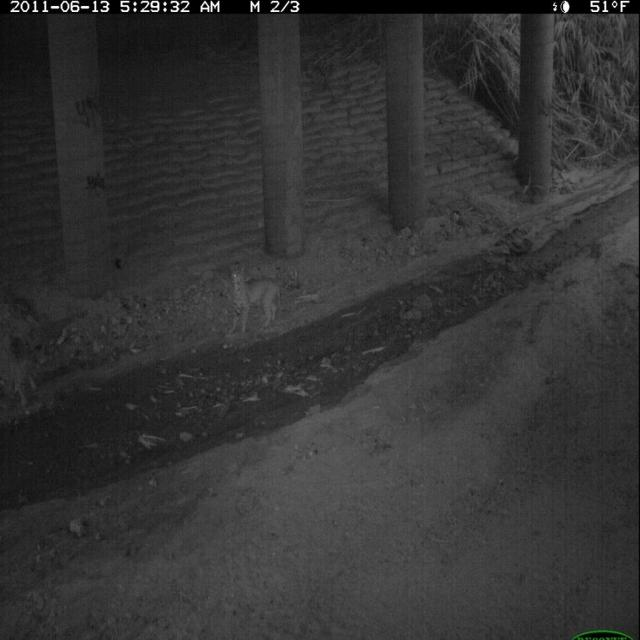bobcat: (227, 259, 284, 341), (3, 325, 45, 410)
